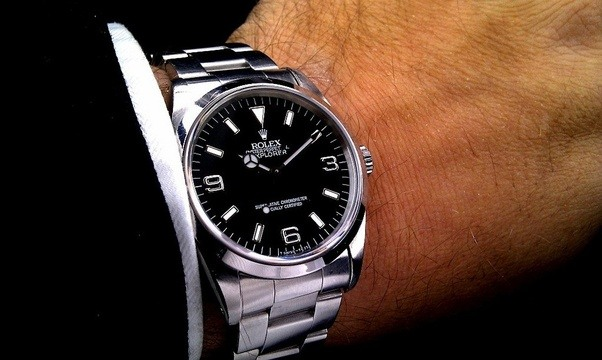clock: (190, 87, 356, 261)
